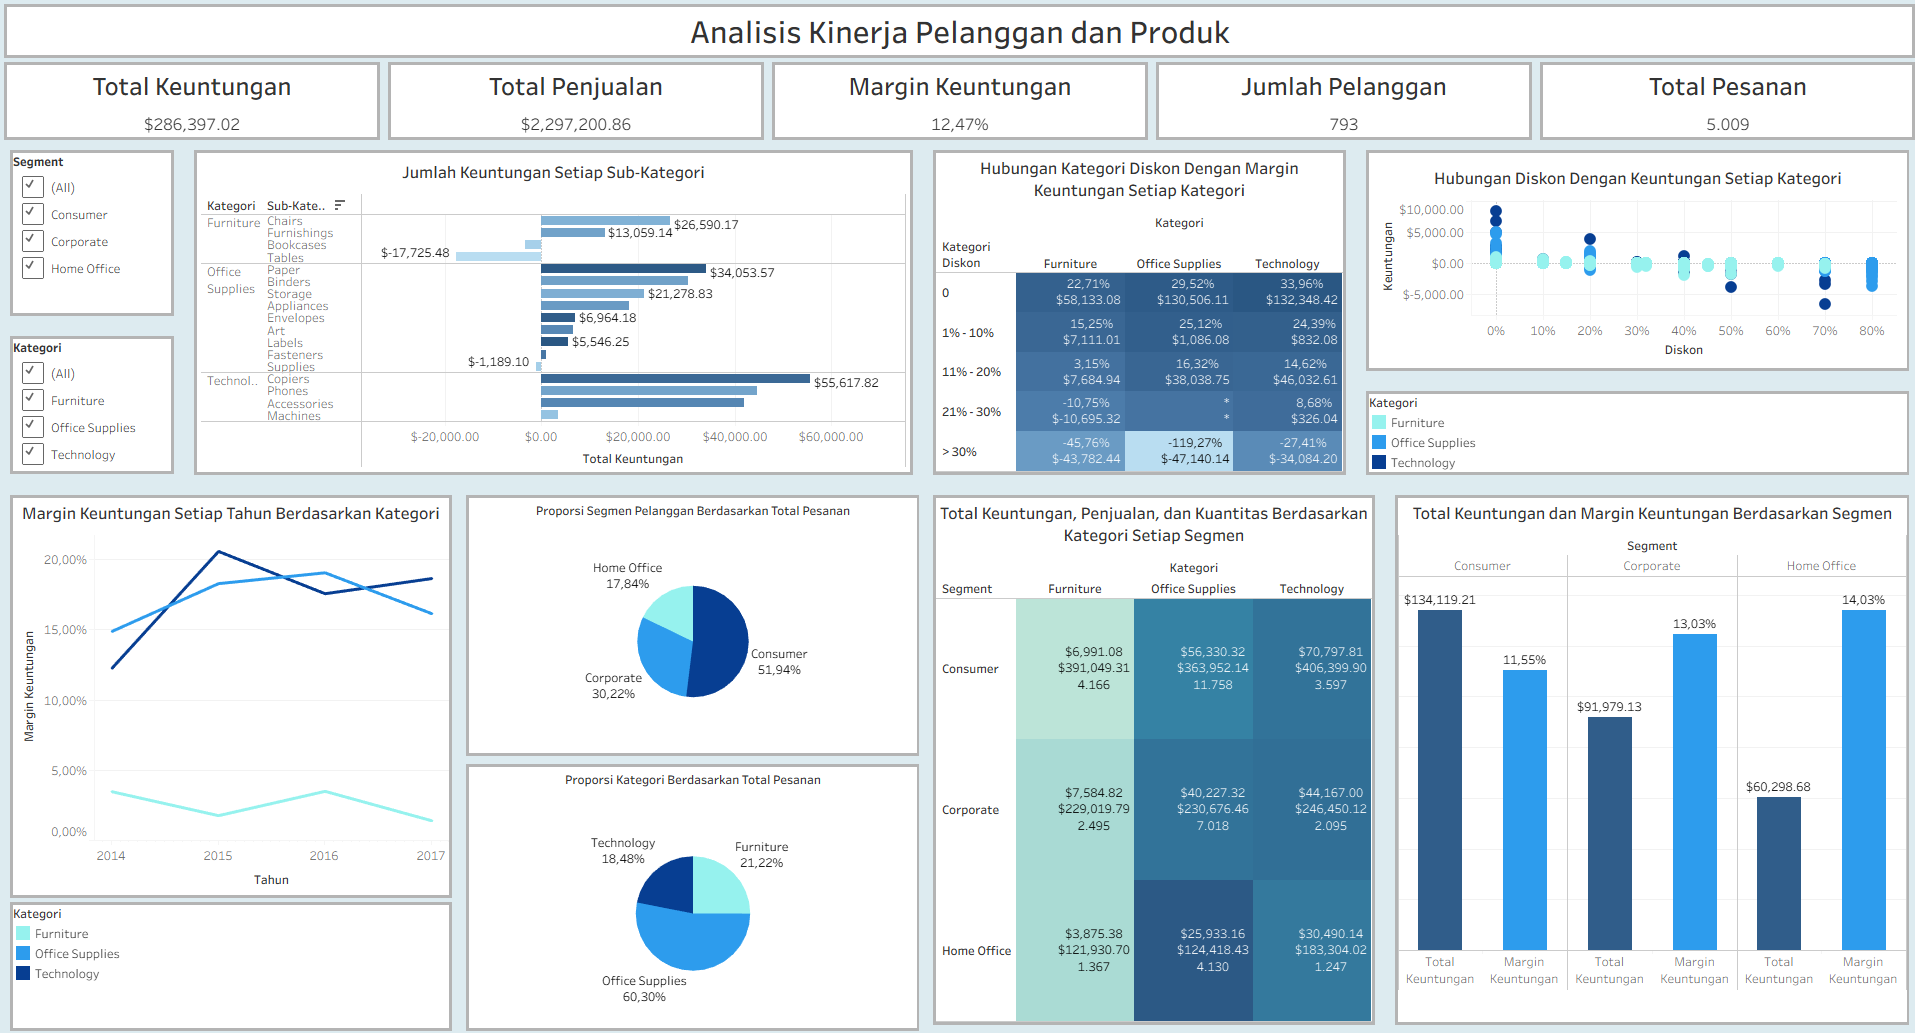

This screenshot's page, from the dashboard's own definition file:
{"tool":"tableau","page":{"name":"Dashboard","canvas":[1000,1000],"units":"permille","ordinal":0},"visuals":[{"type":"text","box":[0,0,1000,76.9]},{"type":"worksheet","title":"sum_prof","mark":"Automatic","box":[0,76.9,200,96.8]},{"type":"worksheet","title":"sum_sal","mark":"Automatic","box":[200,76.9,200,96.8]},{"type":"worksheet","title":"mar_prof","mark":"Automatic","box":[400,76.9,200,96.8]},{"type":"worksheet","title":"count_cus","mark":"Automatic","box":[600,76.9,200,96.8]},{"type":"worksheet","title":"count_or","mark":"Automatic","box":[800,76.9,200,96.8]},{"type":"filter","title":"prof_cat_seg","param":"[federated.0scnxi811fa0ki148nz5v02ebgmk].[none:Segment:nk]","box":[0,173.7,96,230.8]},{"type":"worksheet","title":"prof_subcat","mark":"Automatic","rows":["Category (copy)_1153713340968961","Sub-Category (copy)_1153713349513218"],"cols":["Calculation_0783452058771456"],"box":[96,173.7,384.7,428]},{"type":"worksheet","title":"disc_marg_cat","mark":"Square","rows":["Calculation_1153713334853632"],"cols":["Category (copy)_1153713340968961"],"box":[480.7,173.7,269.9,428]},{"type":"worksheet","title":"disc_prof_cat","mark":"Circle","rows":["Profit"],"cols":["Discount"],"box":[750.6,173.7,249.4,299]},{"type":"filter","title":"prof_cat_seg","param":"[federated.0scnxi811fa0ki148nz5v02ebgmk].[none:Category (copy)_1153713340968961:","box":[0,404.5,96,196]},{"type":"legend","title":"disc_prof_cat","param":"[federated.0scnxi811fa0ki148nz5v02ebgmk].[none:Category (copy)_1153713340968961:","box":[750.6,472.7,249.4,129]},{"type":"worksheet","title":"marg_year","mark":"Automatic","rows":["Calculation_0783452060672004"],"cols":["Order Date"],"box":[0,601.7,240.5,299.2]},{"type":"worksheet","title":"prop_seg","mark":"Pie","box":[240.5,601.7,240.5,199]},{"type":"worksheet","title":"prof_cat_seg","mark":"Square","rows":["Segment"],"cols":["Category (copy)_1153713340968961"],"box":[481,601.7,240.5,398.3]},{"type":"worksheet","title":"prof_sal_marg_cat","mark":"Bar","rows":["Calculation_0783452058771456","Calculation_0783452060672004"],"cols":["Segment"],"box":[721.4,601.7,278.6,398.3]},{"type":"worksheet","title":"prop_cat","mark":"Pie","box":[240.5,800.7,240.5,199.3]},{"type":"legend","title":"marg_year","param":"[federated.0scnxi811fa0ki148nz5v02ebgmk].[none:Category (copy)_1153713340968961:","box":[0,901,240.5,99]}]}

Visuals, with their boxes on the dashboard's canvas, which has no fixed pixel size, in thousandths of its width and height (x1, y1, x2, y2). These are canvas units, not pixel positions in the 1915x1033 screenshot, which may show the page scaled, cropped or inside an application window:
text: select_region(0, 0, 1000, 77)
"sum_prof" worksheet: select_region(0, 77, 200, 174)
"sum_sal" worksheet: select_region(200, 77, 400, 174)
"mar_prof" worksheet: select_region(400, 77, 600, 174)
"count_cus" worksheet: select_region(600, 77, 800, 174)
"count_or" worksheet: select_region(800, 77, 1000, 174)
"prof_cat_seg" filter: select_region(0, 174, 96, 404)
"prof_subcat" worksheet: select_region(96, 174, 481, 602)
"disc_marg_cat" worksheet (Square marks): select_region(481, 174, 751, 602)
"disc_prof_cat" worksheet (Circle marks): select_region(751, 174, 1000, 473)
"prof_cat_seg" filter: select_region(0, 404, 96, 600)
"disc_prof_cat" legend: select_region(751, 473, 1000, 602)
"marg_year" worksheet: select_region(0, 602, 240, 901)
"prop_seg" worksheet (Pie marks): select_region(240, 602, 481, 801)
"prof_cat_seg" worksheet (Square marks): select_region(481, 602, 722, 1000)
"prof_sal_marg_cat" worksheet (Bar marks): select_region(721, 602, 1000, 1000)
"prop_cat" worksheet (Pie marks): select_region(240, 801, 481, 1000)
"marg_year" legend: select_region(0, 901, 240, 1000)
